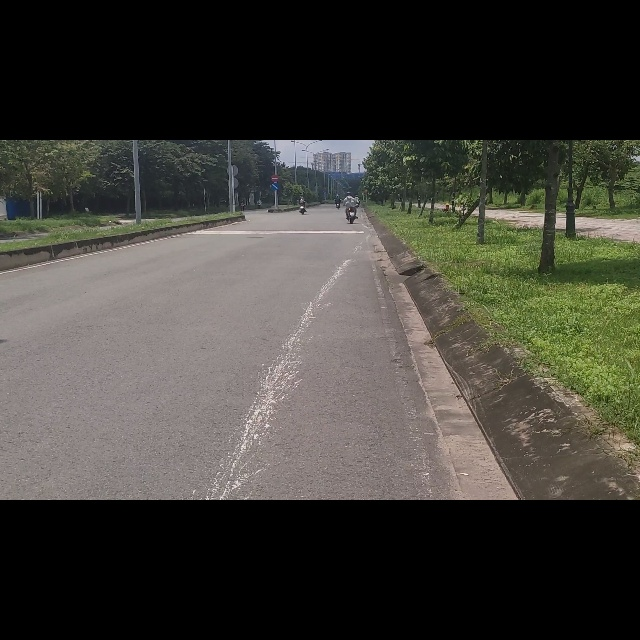bien_cam: (271, 61, 279, 74), (272, 76, 279, 89)
